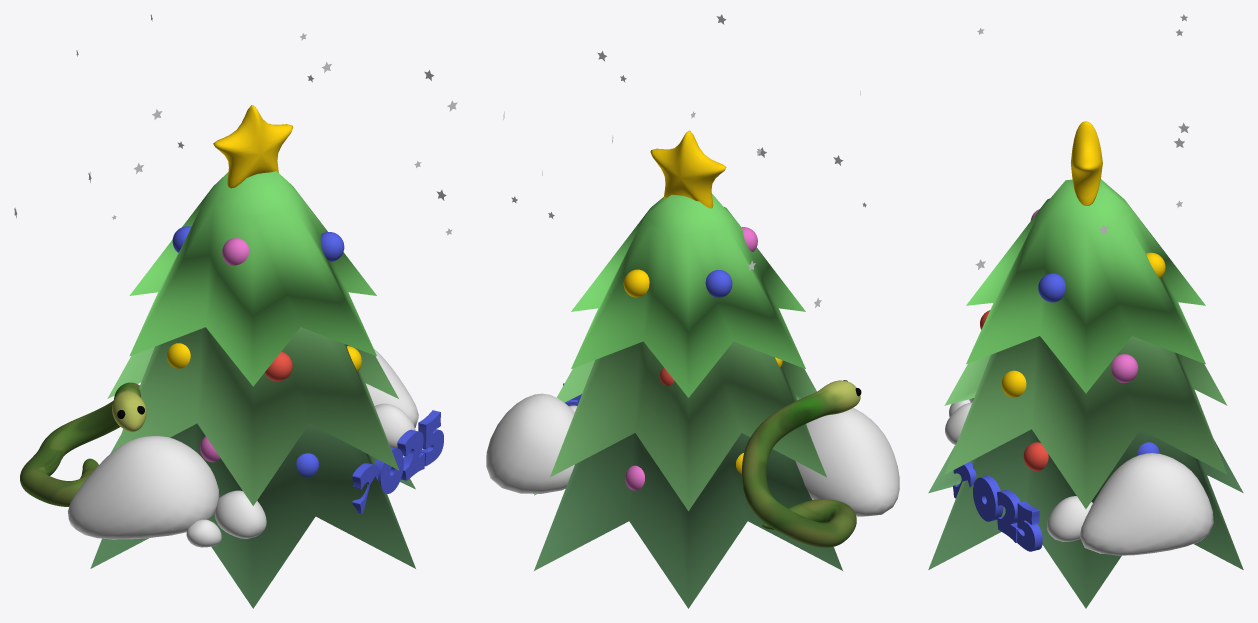
3 views of the same model, side by side, from view 1: azimuth 30°, elevation 25°; view 2: azimuth 150°, elevation 25°; view 3: azimuth 270°, elevation 25° (orthographic). The views are drawn at different scales.
Parts seen in each view (by area): view 1: Cylinder, Cylinder.001, Cylinder.002, Sphere.016, Zmeya, Text, Zvezda, Sphere.018, Sphere.015, Sphere.017, Sphere.019, Sphere.001 (+1 smaller); view 2: Cylinder, Cylinder.001, Cylinder.002, Zmeya, Sphere.016, Sphere.015, Zvezda, Sphere.013, Sphere.006; view 3: Cylinder, Cylinder.001, Cylinder.002, Sphere.015, Text, Zvezda, Sphere.017, Sphere, Sphere.010, Sphere.018, Sphere.009, Sphere.002.
Part boxes in pixels (box(x1,y1,x2,y2)): Cylinder: box(129, 171, 376, 386); Cylinder.001: box(107, 327, 399, 505); Cylinder.002: box(90, 423, 415, 608); Sphere.016: box(68, 436, 219, 539); Zmeya: box(20, 382, 146, 506); Text: box(352, 410, 443, 513); Zvezda: box(213, 105, 293, 188); Sphere.018: box(214, 490, 266, 538); Sphere.015: box(366, 349, 418, 427); Sphere.017: box(374, 403, 415, 448); Sphere.019: box(186, 519, 221, 547); Sphere.001: box(222, 238, 249, 265); Cylinder: box(571, 194, 805, 397); Cylinder.001: box(550, 341, 826, 511); Cylinder.002: box(534, 433, 842, 608); Zmeya: box(742, 380, 861, 547); Sphere.016: box(795, 408, 899, 516); Sphere.015: box(486, 393, 574, 493); Zvezda: box(650, 130, 726, 208); Sphere.013: box(705, 270, 732, 297); Sphere.006: box(623, 269, 649, 297); Cylinder: box(966, 179, 1205, 393); Cylinder.001: box(944, 336, 1227, 508); Cylinder.002: box(928, 429, 1243, 608); Sphere.015: box(1080, 453, 1213, 555); Text: box(953, 461, 1042, 551); Zvezda: box(1071, 121, 1102, 205); Sphere.017: box(1047, 496, 1092, 541); Sphere: box(1038, 273, 1065, 302); Sphere.010: box(1111, 354, 1138, 382); Sphere.018: box(945, 402, 971, 445); Sphere.009: box(1023, 442, 1048, 471); Sphere.002: box(1001, 370, 1026, 397).
Size of the model in its own units: 1.47 by 1.83 by 1.08.
Materials: 11 (1 with a texture image).
